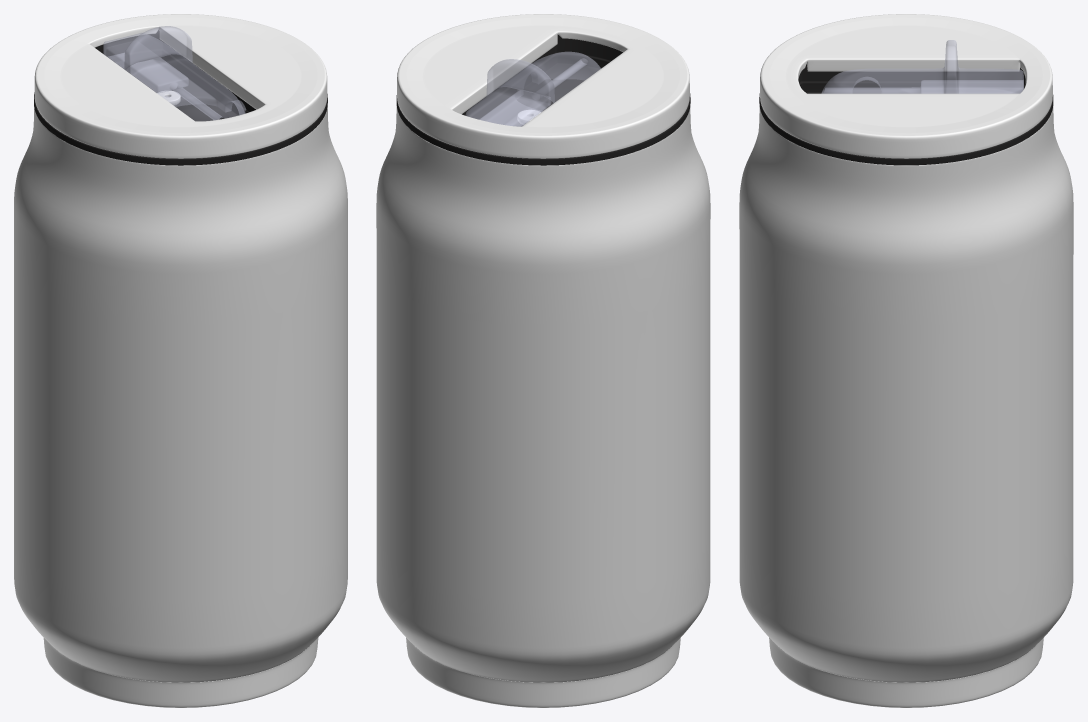
The model's file is 10385-onesize.glb.
3 views of the same model, side by side, from view 1: azimuth 30°, elevation 25°; view 2: azimuth 150°, elevation 25°; view 3: azimuth 270°, elevation 25° (orthographic).
Visible parts, largest first — view 1: 2642; view 2: 2642; view 3: 2642.
Part boxes in pixels (x1,y1,x2,y2): 2642: (14,14,347,707); 2642: (376,14,710,707); 2642: (739,14,1073,707).
Bounding box in the file's own units: 2.92 × 5.85 × 2.92.
